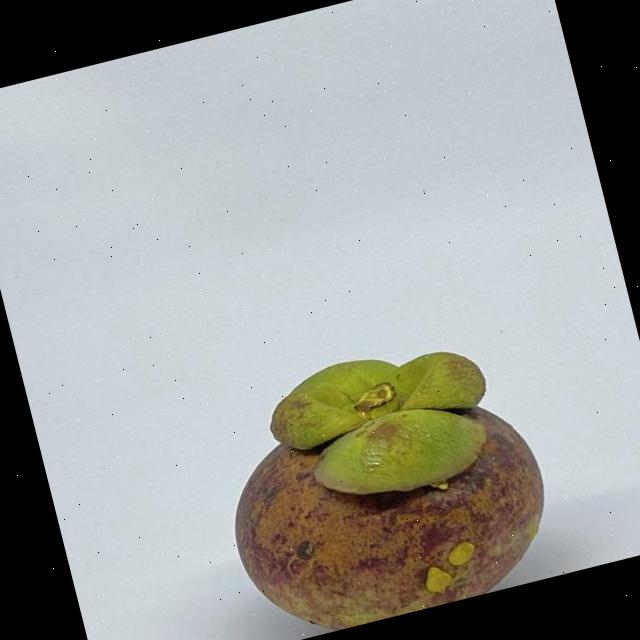mangosteen: (163, 269, 582, 640)
